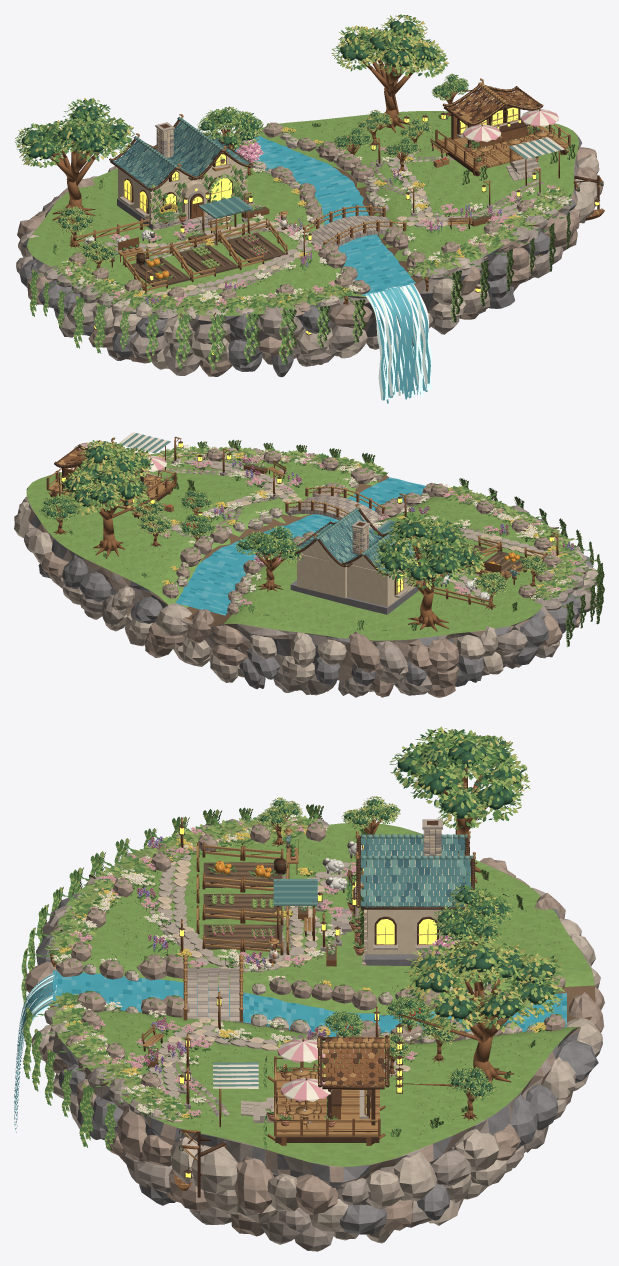
Rendered from island_expanded.glb.
3 renders of one model, top to bottom at view 1: azimuth 30°, elevation 25°; view 2: azimuth 150°, elevation 25°; view 3: azimuth 270°, elevation 25°, orthographic. The views are drawn at different scales.
Parts seen in each view (by area): view 1: island_scenery, stream_surface, waterfall_ribbons; view 2: island_scenery, stream_surface; view 3: island_scenery, stream_surface, waterfall_ribbons.
Boxes of the visible parts, left/top/right/bottom form: island_scenery: left=15, top=14, right=603, bottom=377; stream_surface: left=235, top=136, right=415, bottom=295; waterfall_ribbons: left=365, top=283, right=431, bottom=403; island_scenery: left=14, top=432, right=604, bottom=697; stream_surface: left=175, top=477, right=425, bottom=615; island_scenery: left=21, top=726, right=604, bottom=1251; stream_surface: left=53, top=970, right=566, bottom=1042; waterfall_ribbons: left=14, top=972, right=56, bottom=1132.
Size of the model in its own units: 61.41 by 23.19 by 41.4.
50 materials, 18 textured.
